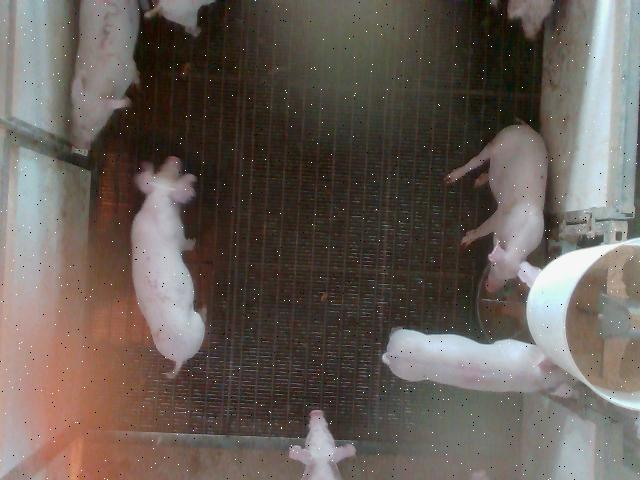pig-3: (71, 0, 140, 149)
pig-4: (382, 329, 568, 392)
